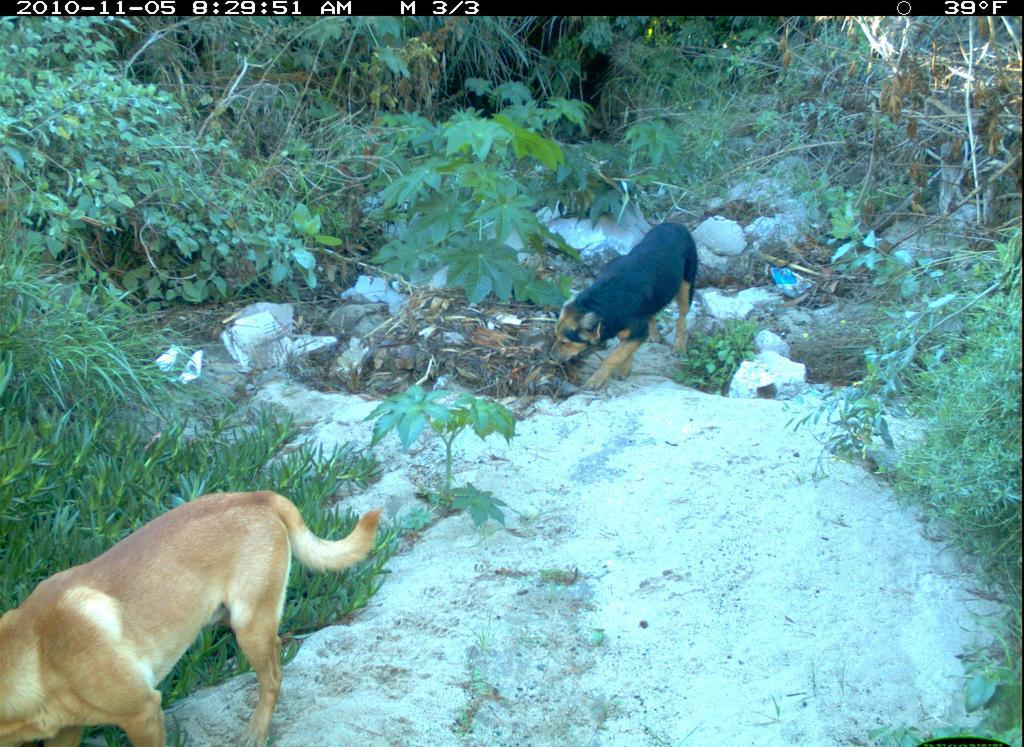dog: (1, 459, 388, 747), (530, 180, 713, 417)
